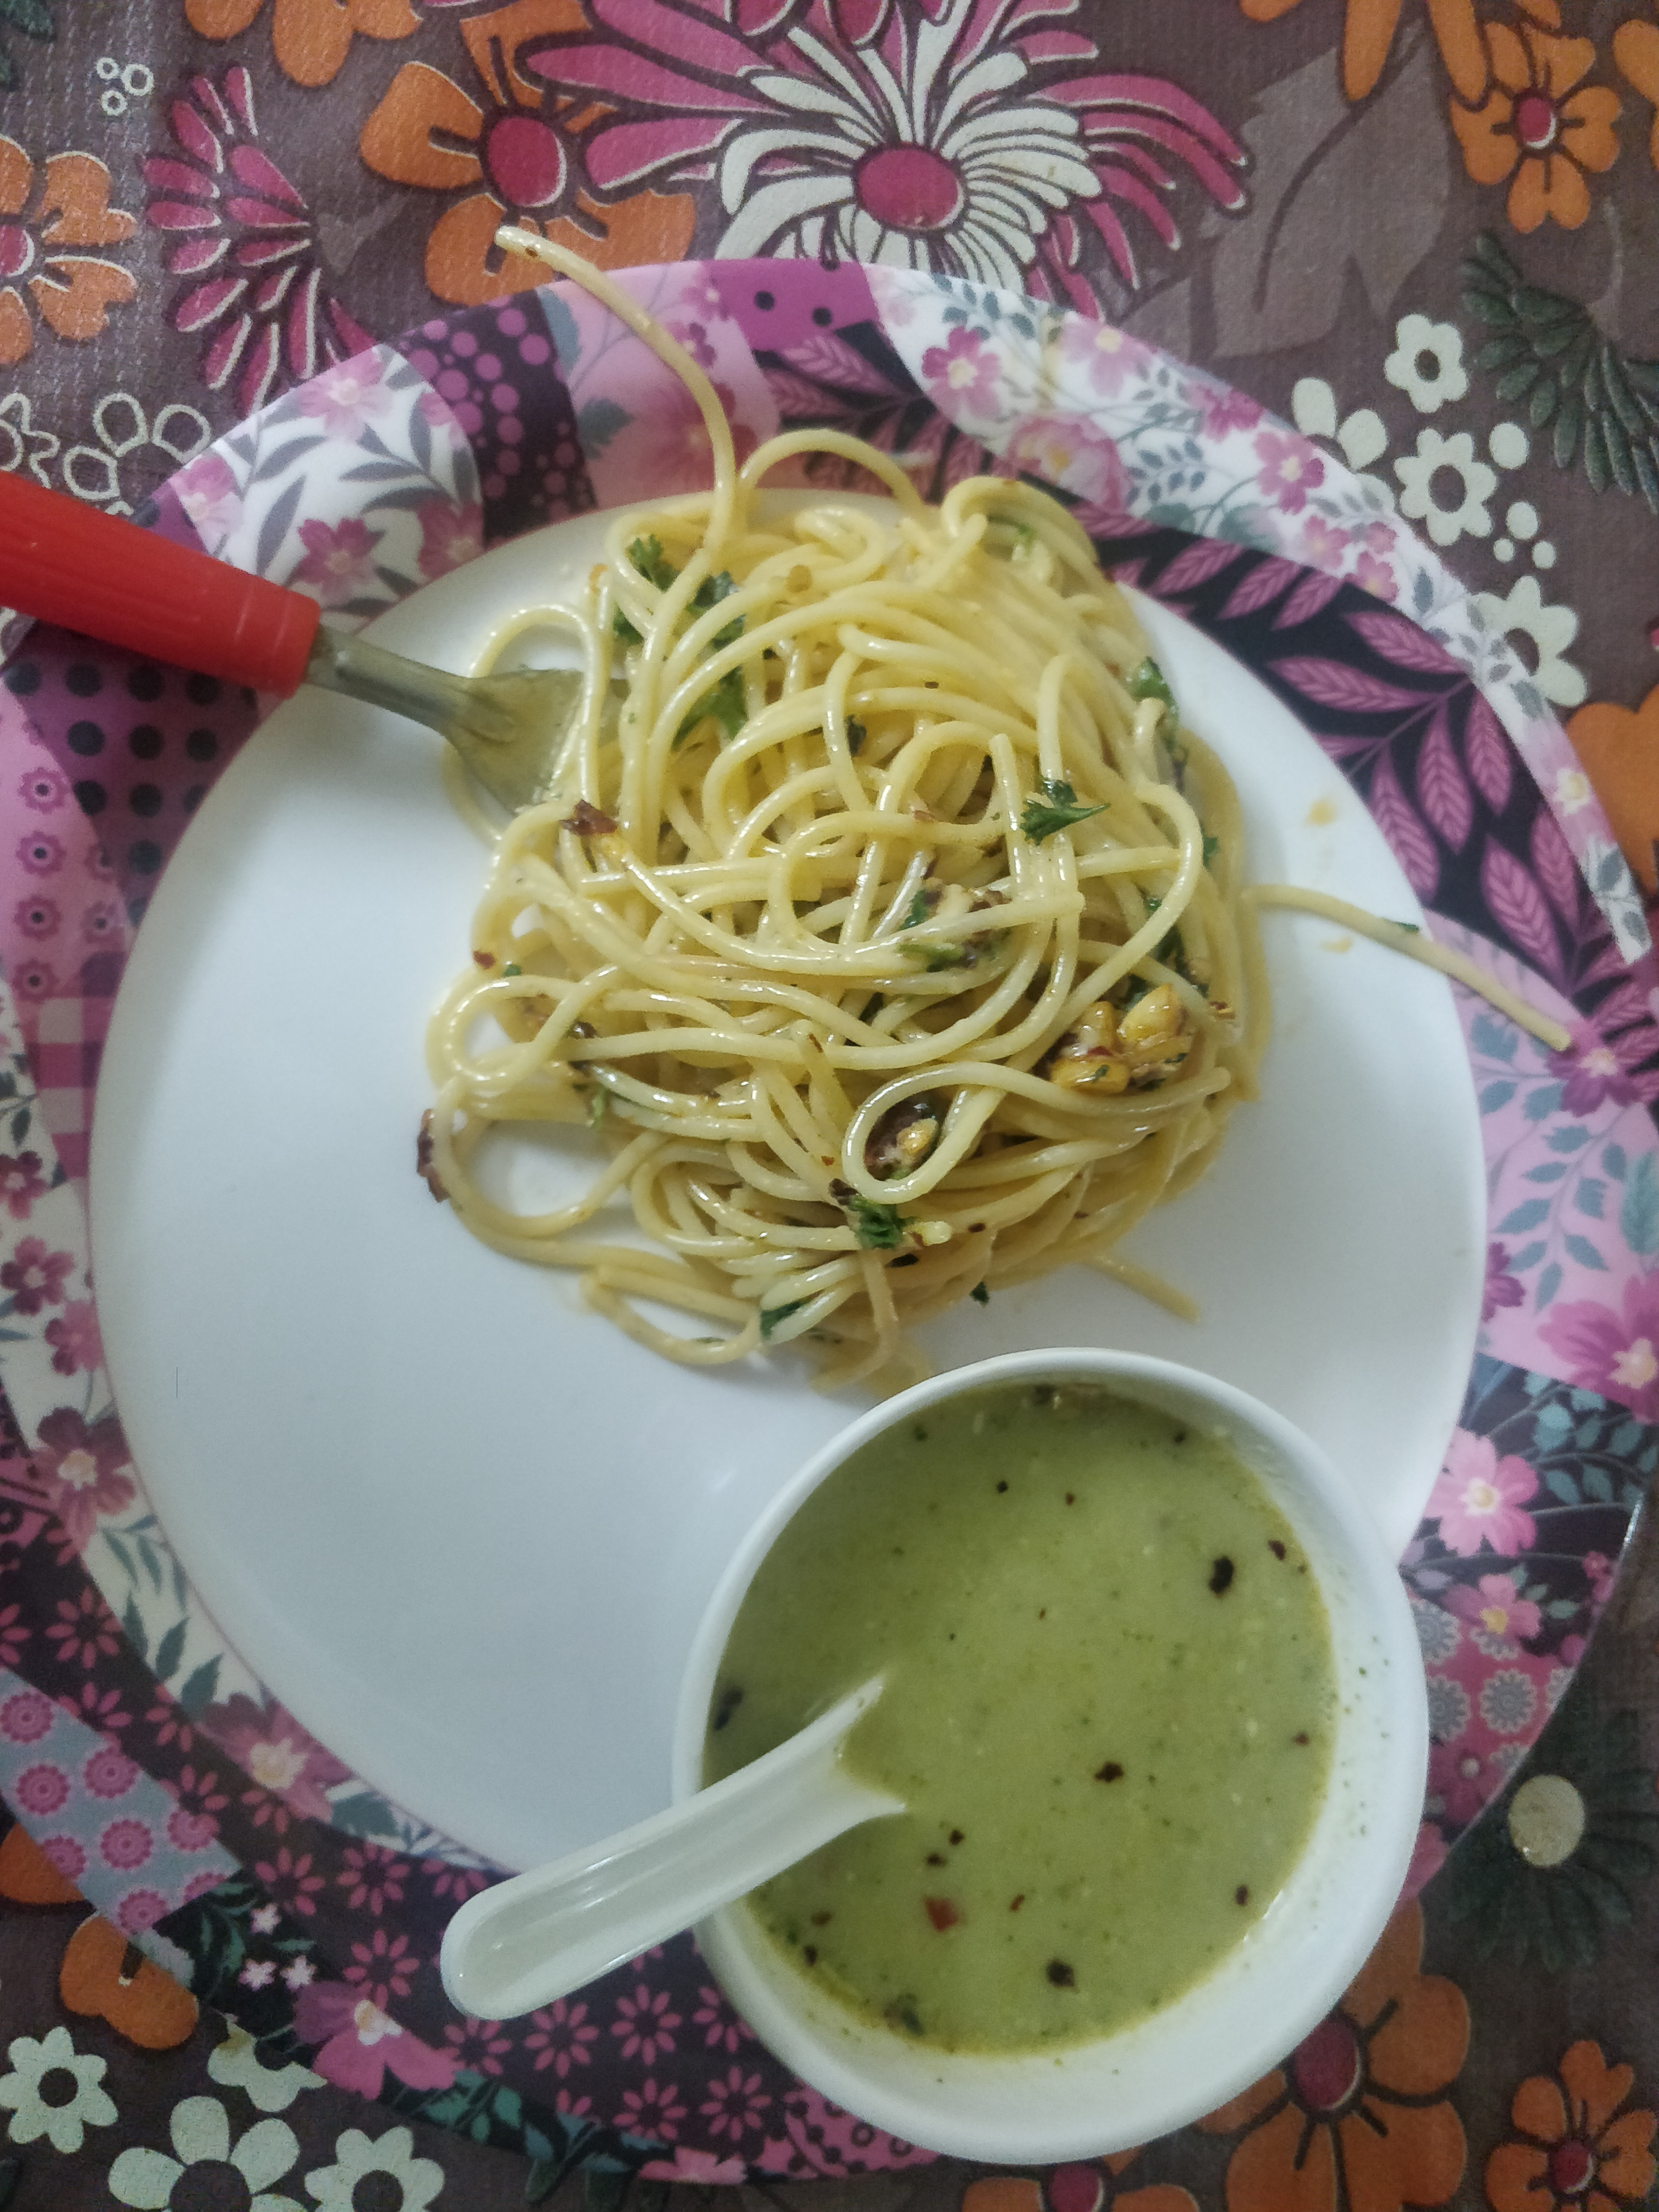food: (411, 218, 1591, 1406), (694, 1372, 1363, 2069)
